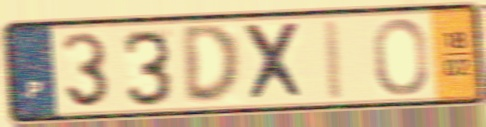3: (121, 26, 177, 108), (59, 30, 112, 109)
D: (179, 22, 245, 108)
I: (320, 17, 348, 103)
O: (370, 16, 431, 99)
X: (239, 20, 311, 105)
